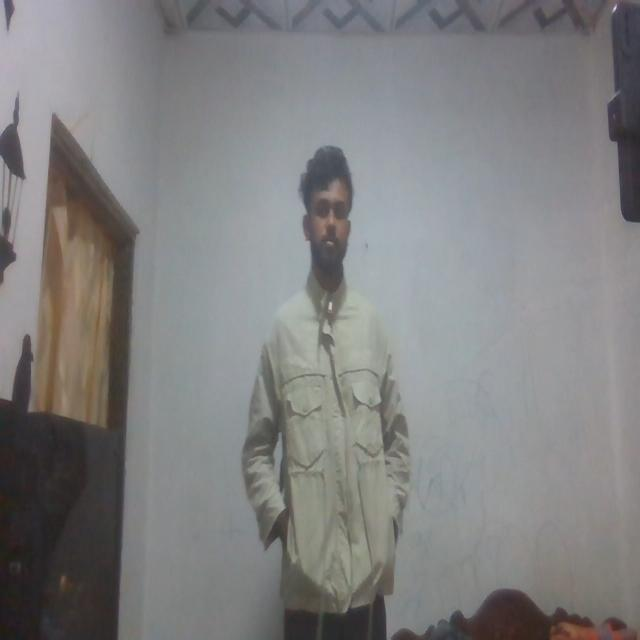Jacket_Wearer: (244, 273, 415, 610)
Person: (238, 136, 408, 640)
